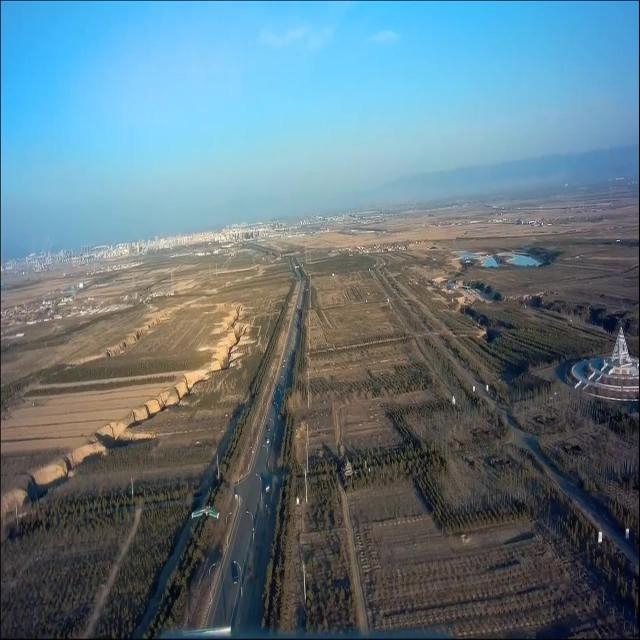iha: (191, 505, 219, 520)
